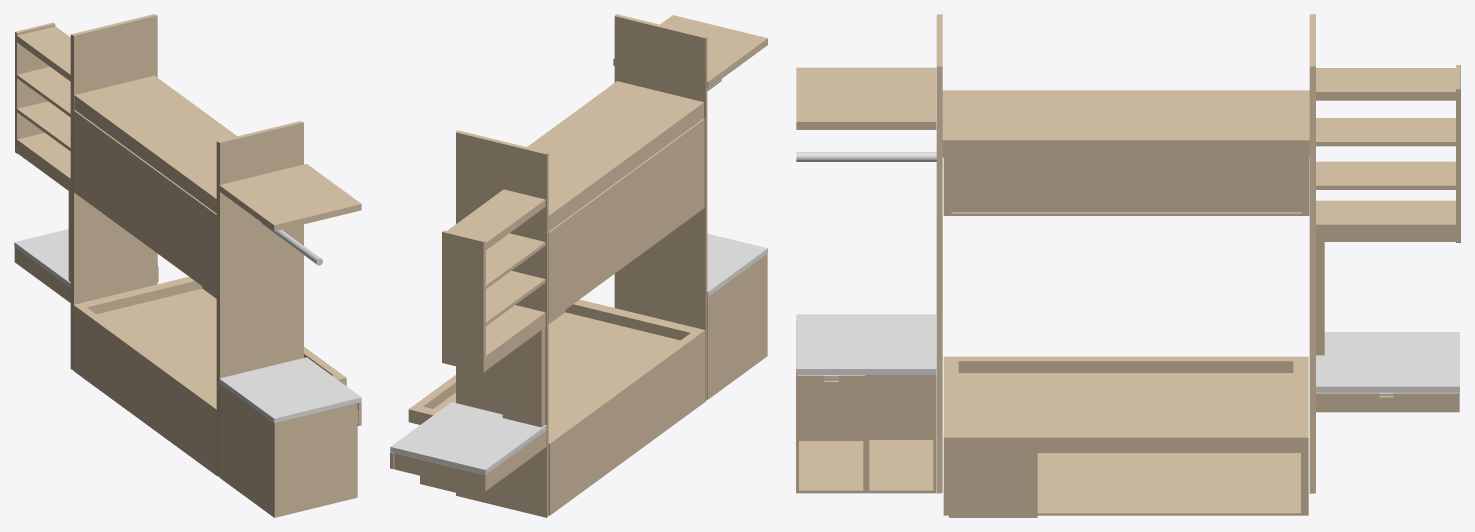
File: room-wooden-furniture.fbx
3 renders of one model, left to right at view 1: azimuth 30°, elevation 25°; view 2: azimuth 150°, elevation 25°; view 3: azimuth 270°, elevation 25°, orthographic. The views are drawn at different scales.
Parts seen in each view (by area): view 1: bed, Cube.003, Dresser, Cube.001, Cube.007, Cube.005, Cube.006, Cube.004, Desk_Side.001, Desk_Side.003, Cube.002, Desk_Side.002 (+4 smaller); view 2: bed, Cube.003, Cube.007, Cube.001, Cube.005, Cube.002, Dresser, Desk_Side.001, Desk_Side.006, Cube.006, Desk_Side.002, Cube (+4 smaller); view 3: bed, Cube.005, Cube.007, Dresser, Cube.006, Cube.004, Cube.002, Desk_Side.003, Dresser.002, Desk_Side.002, Desk_Side.004, Desk_Side.005 (+7 smaller).
Part boxes in pixels (bbox=[...]): bed: bbox=[73, 277, 346, 475]; Cube.003: bbox=[216, 121, 303, 476]; Dresser: bbox=[219, 384, 357, 517]; Cube.001: bbox=[70, 14, 157, 370]; Cube.007: bbox=[73, 110, 216, 296]; Cube.005: bbox=[74, 75, 236, 213]; Cube.006: bbox=[219, 164, 361, 231]; Cube.004: bbox=[219, 357, 361, 423]; Desk_Side.001: bbox=[15, 22, 55, 153]; Desk_Side.003: bbox=[17, 133, 70, 191]; Cube.002: bbox=[14, 229, 157, 287]; Desk_Side.002: bbox=[17, 26, 70, 81]; bed: bbox=[408, 299, 705, 515]; Cube.003: bbox=[614, 14, 707, 401]; Cube.007: bbox=[548, 119, 704, 321]; Cube.001: bbox=[456, 130, 548, 517]; Cube.005: bbox=[527, 81, 703, 231]; Cube.002: bbox=[390, 402, 546, 474]; Dresser: bbox=[707, 254, 767, 399]; Desk_Side.001: bbox=[442, 230, 485, 372]; Desk_Side.006: bbox=[502, 327, 545, 427]; Cube.006: bbox=[613, 15, 767, 88]; Desk_Side.002: bbox=[447, 189, 545, 249]; Cube: bbox=[394, 430, 546, 491]; bed: bbox=[943, 356, 1308, 515]; Cube.005: bbox=[942, 90, 1309, 157]; Cube.007: bbox=[943, 157, 1309, 215]; Dresser: bbox=[796, 320, 936, 493]; Cube.006: bbox=[796, 67, 936, 129]; Cube.004: bbox=[796, 314, 936, 374]; Cube.002: bbox=[1316, 332, 1459, 392]; Desk_Side.003: bbox=[1316, 200, 1455, 241]; Dresser.002: bbox=[949, 453, 1037, 517]; Desk_Side.002: bbox=[1316, 68, 1455, 100]; Desk_Side.004: bbox=[1316, 161, 1455, 189]; Desk_Side.005: bbox=[1316, 118, 1455, 146].
Bounding box in the file's own units: 102 × 250 × 352.
